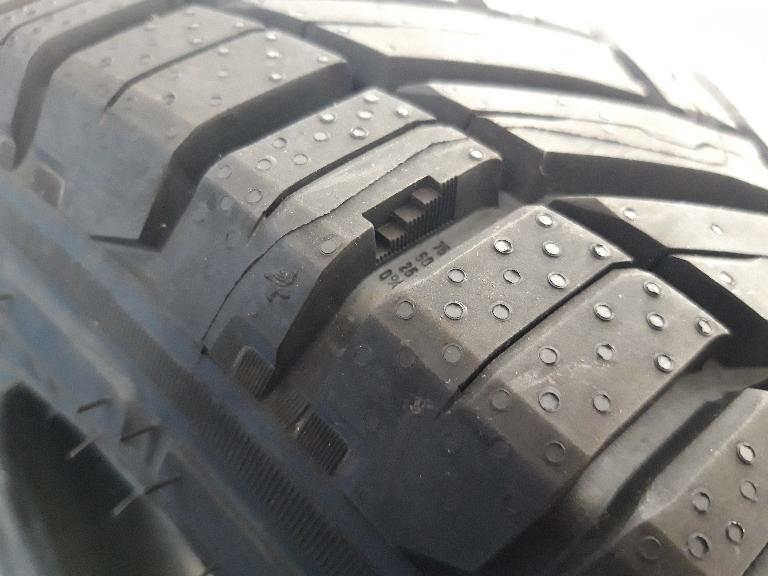temoin:100: (358, 170, 461, 270)
